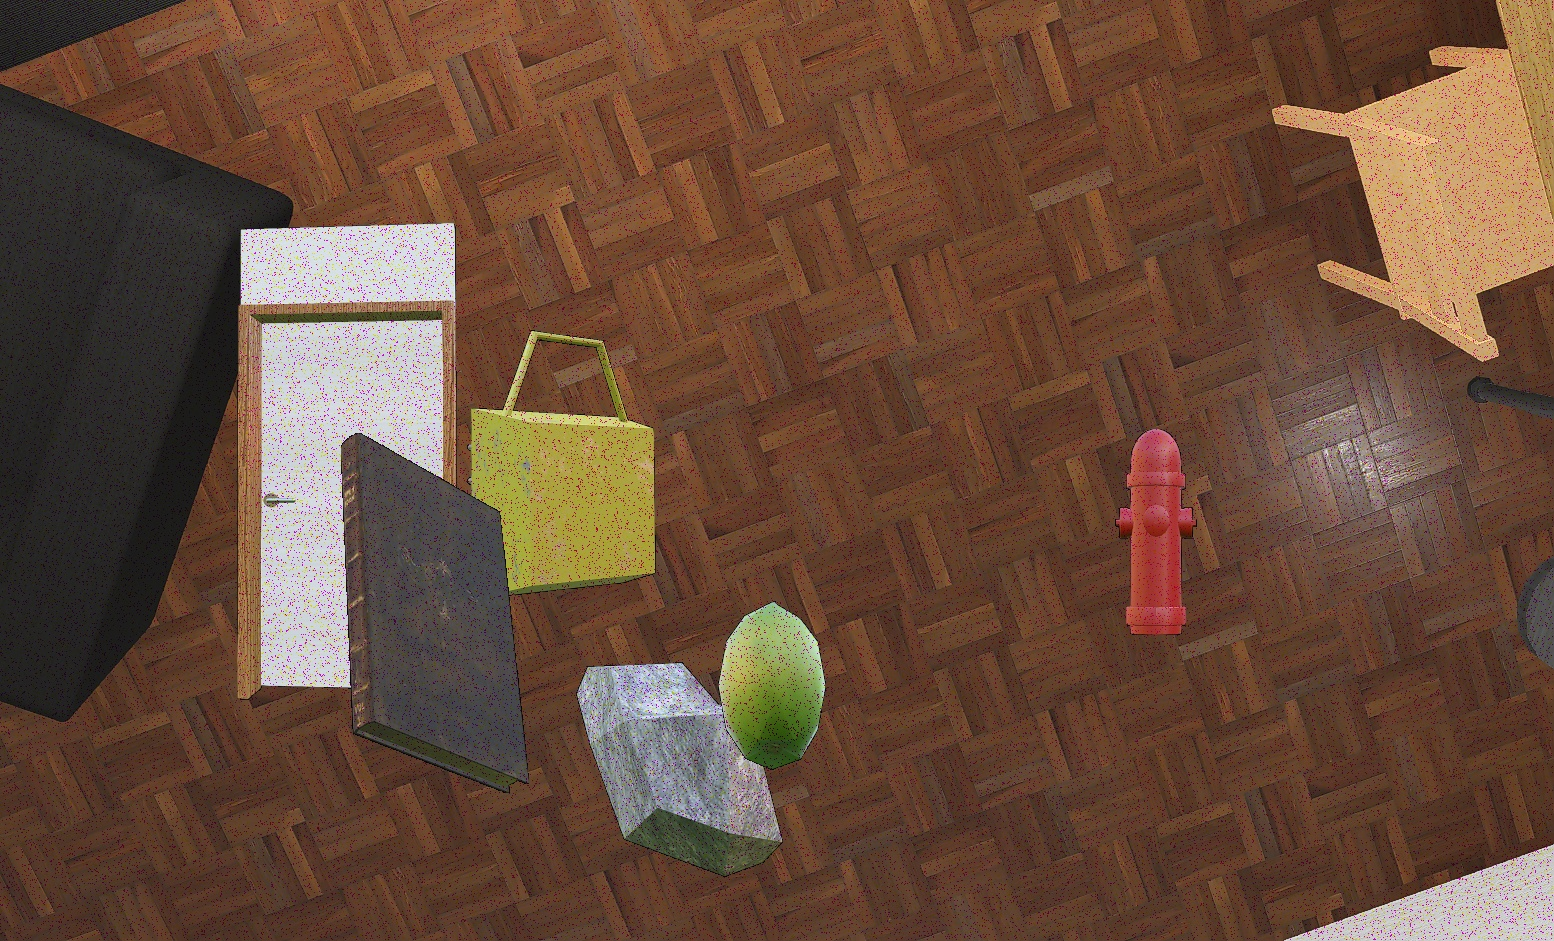bocaincendios: (1116, 428, 1197, 636)
lampara: (467, 330, 656, 600)
libro: (340, 432, 529, 795)
manzana: (718, 601, 826, 770)
piedra: (576, 662, 783, 877)
puerta: (236, 222, 458, 705)
